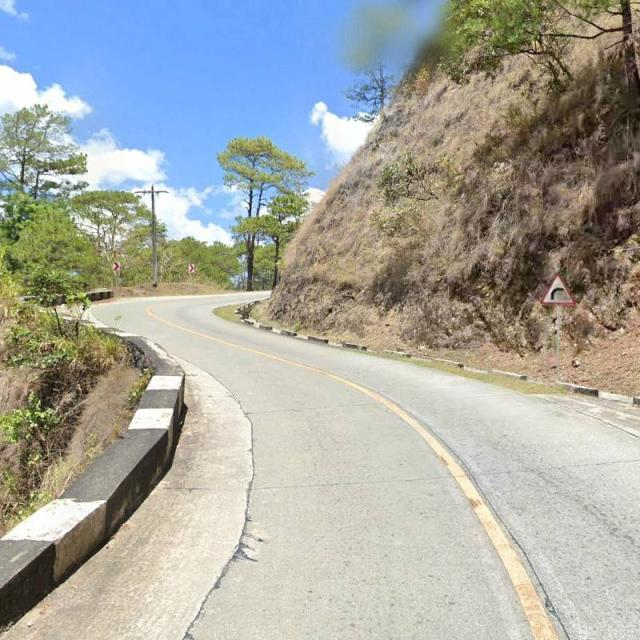warn_right_curve: (541, 274, 576, 306)
